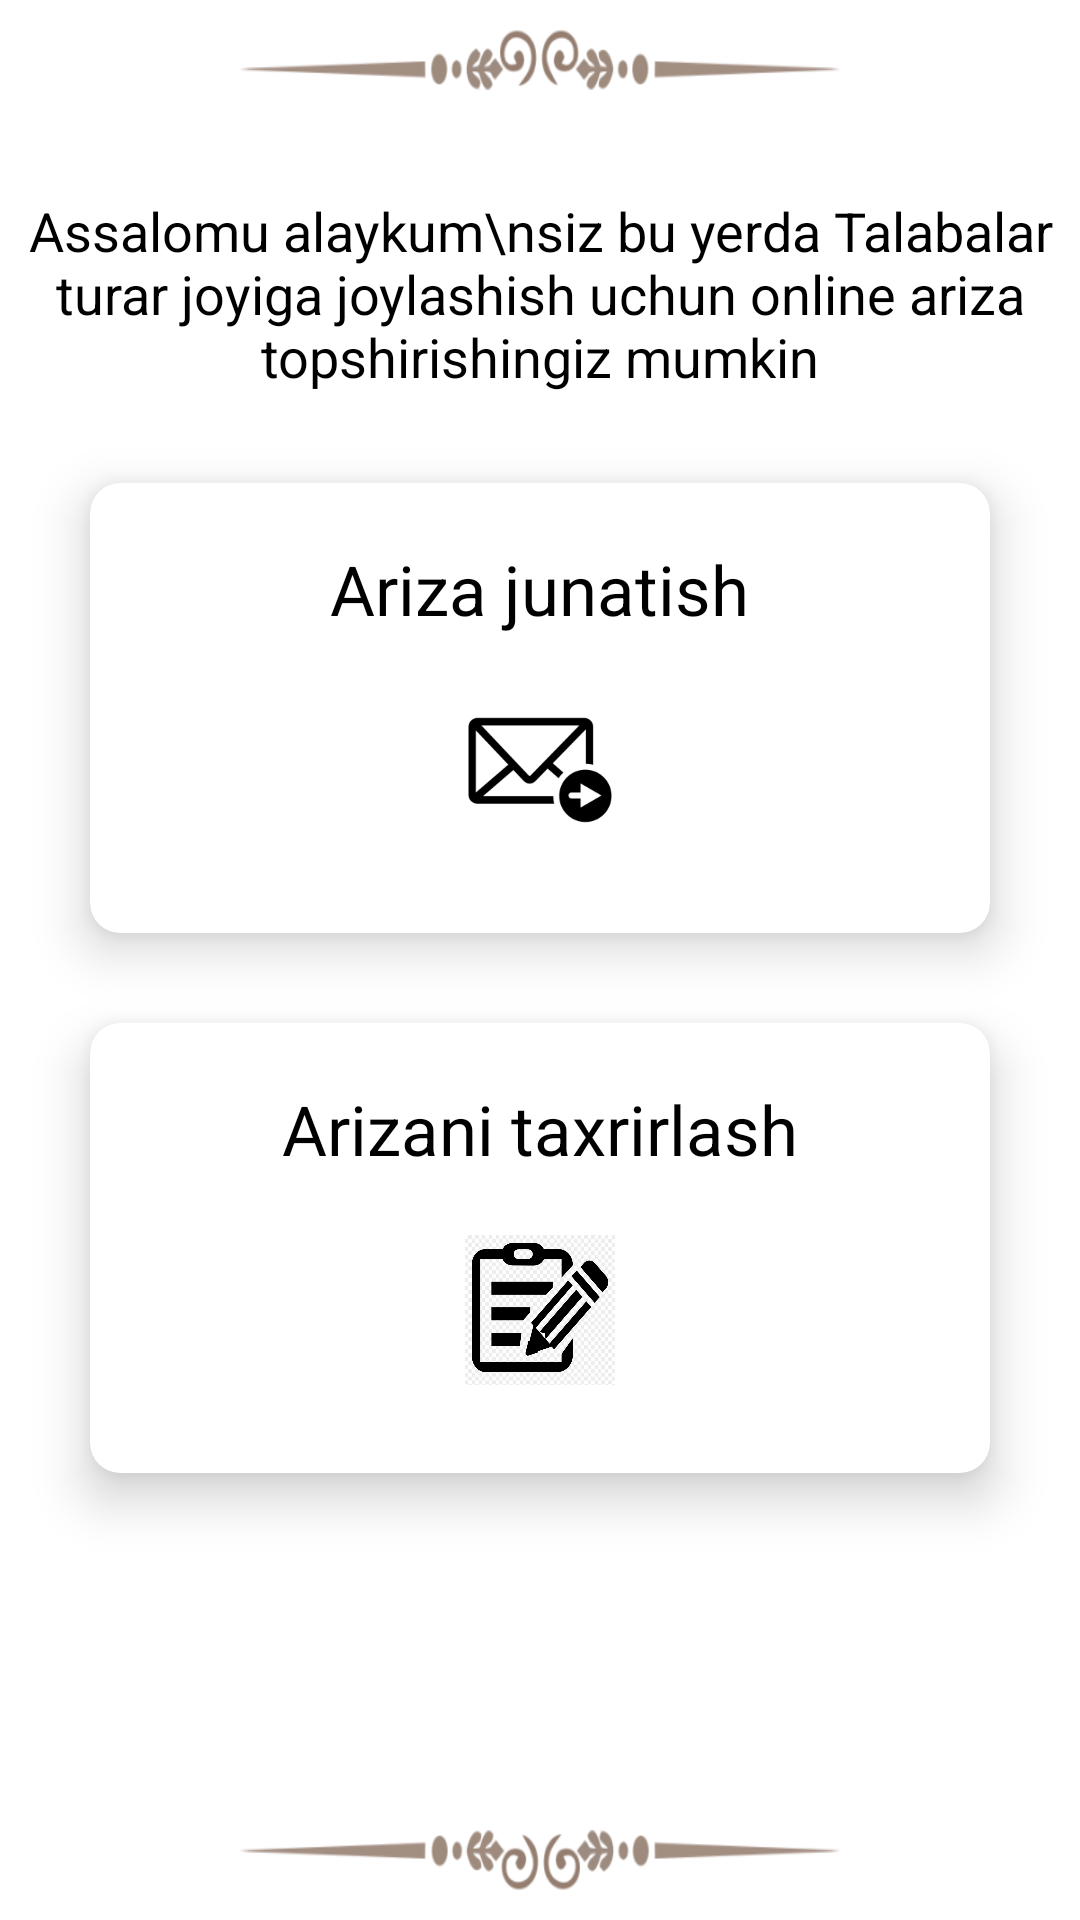

Icon bounding boxes for this 1080 × 1920 phone screenshot, format [left=x1, top=y1, right=x2, bottom=y2]:
send: [left=468, top=717, right=612, bottom=823]
